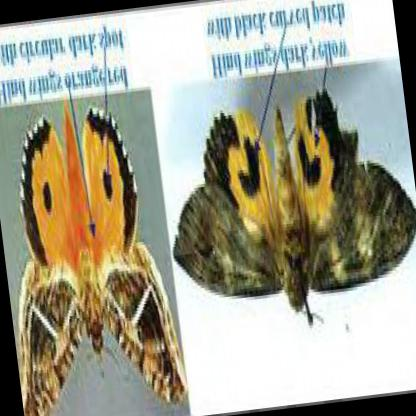fruit sucking moth: (173, 85, 416, 317), (16, 107, 187, 416)
